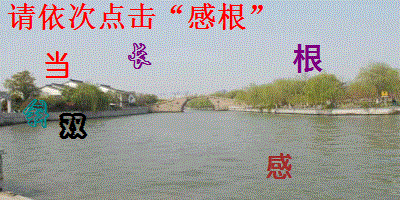text: (291, 43, 324, 73), (22, 98, 50, 129), (57, 112, 88, 140), (265, 152, 295, 180), (43, 51, 71, 79), (126, 42, 152, 70)
